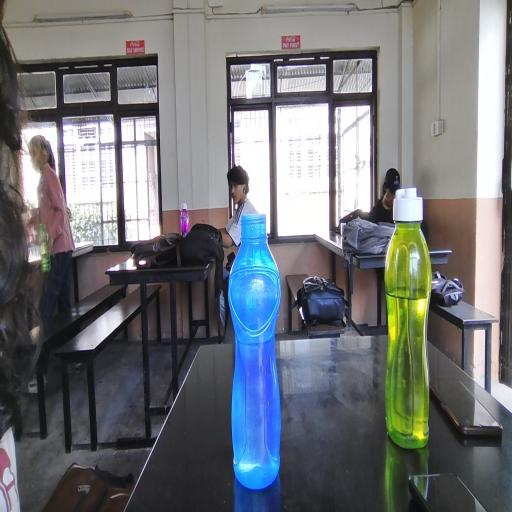Bottle: (378, 168, 449, 442), (226, 218, 295, 484)
